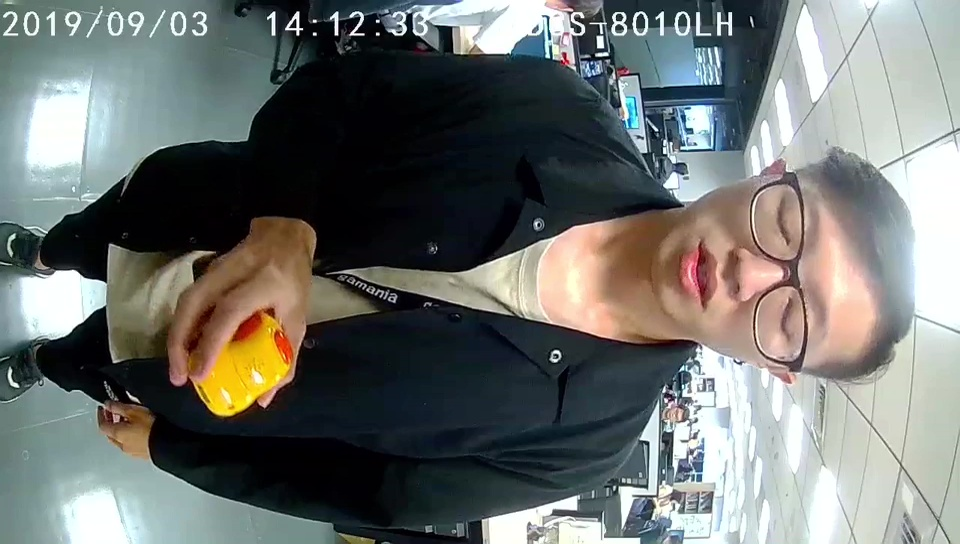car: (189, 308, 291, 415)
